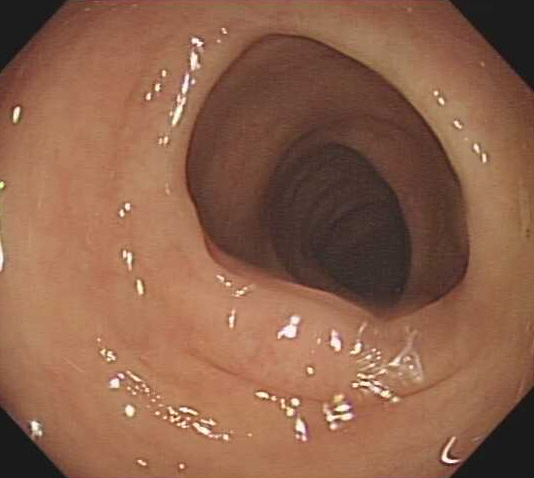others: (225, 282, 391, 405)
